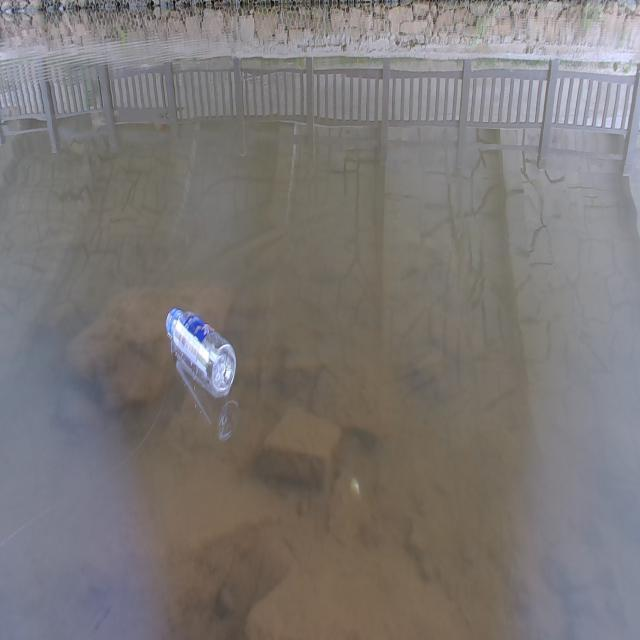Bottle: (155, 302, 243, 402)
